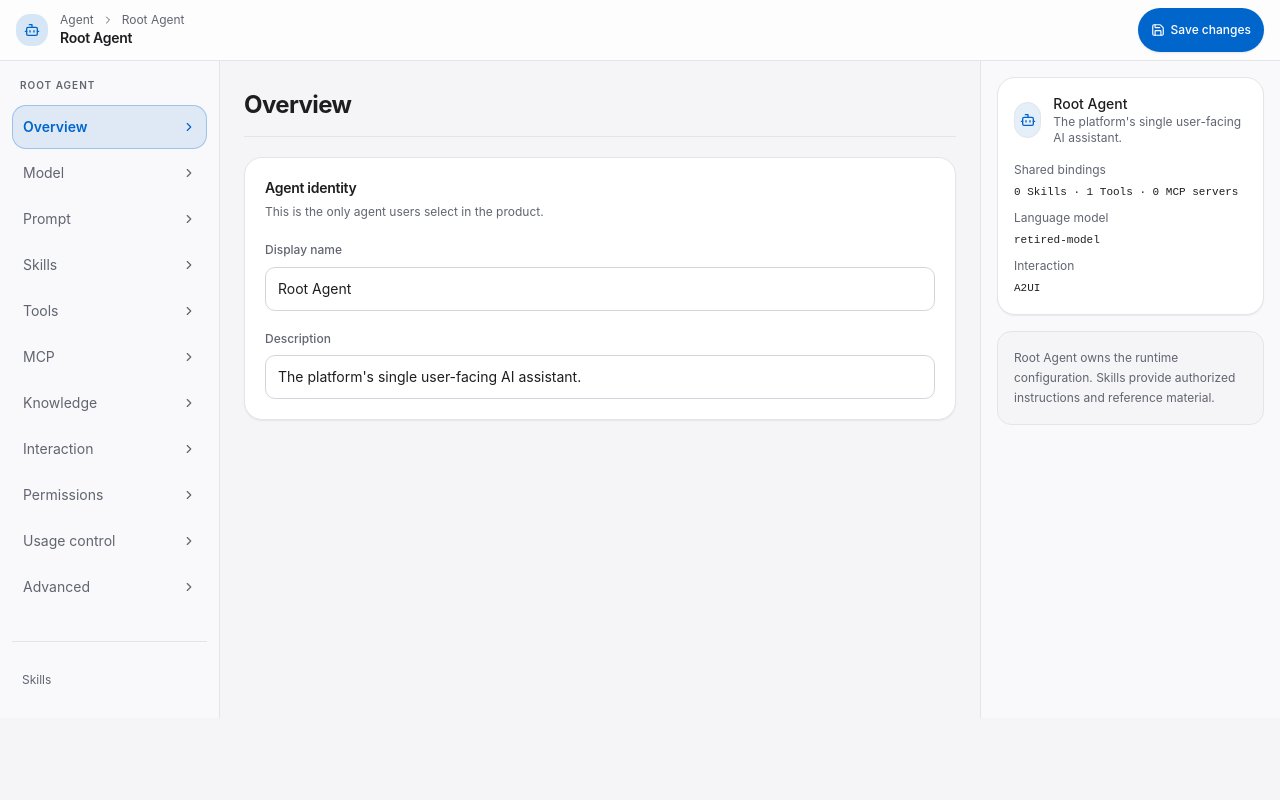
Test: Root model selection › shows the actual saved model retired-model when the registry has other models
Click the button "Model" at [110, 173], box [12,151,207,195]
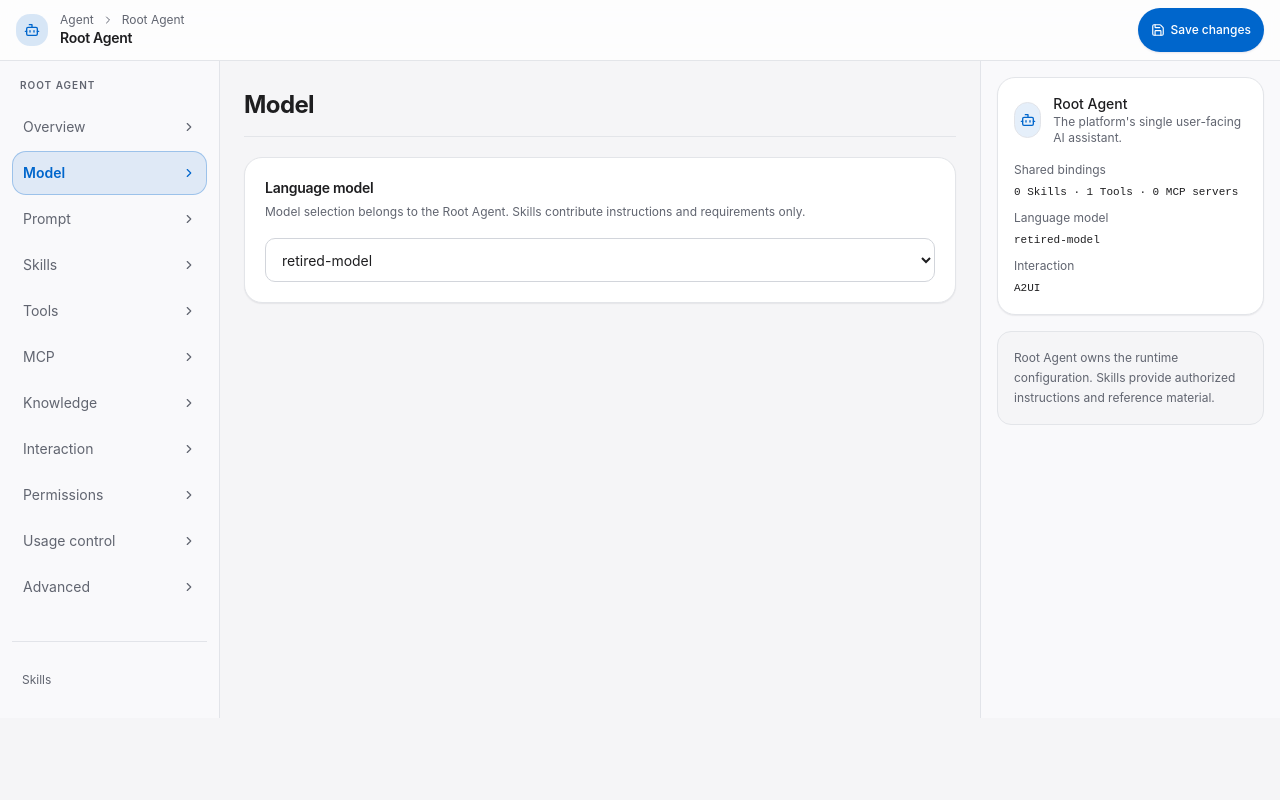
Now the dropdown named "Language model" shows "retired-model", box [265,238,935,282]
